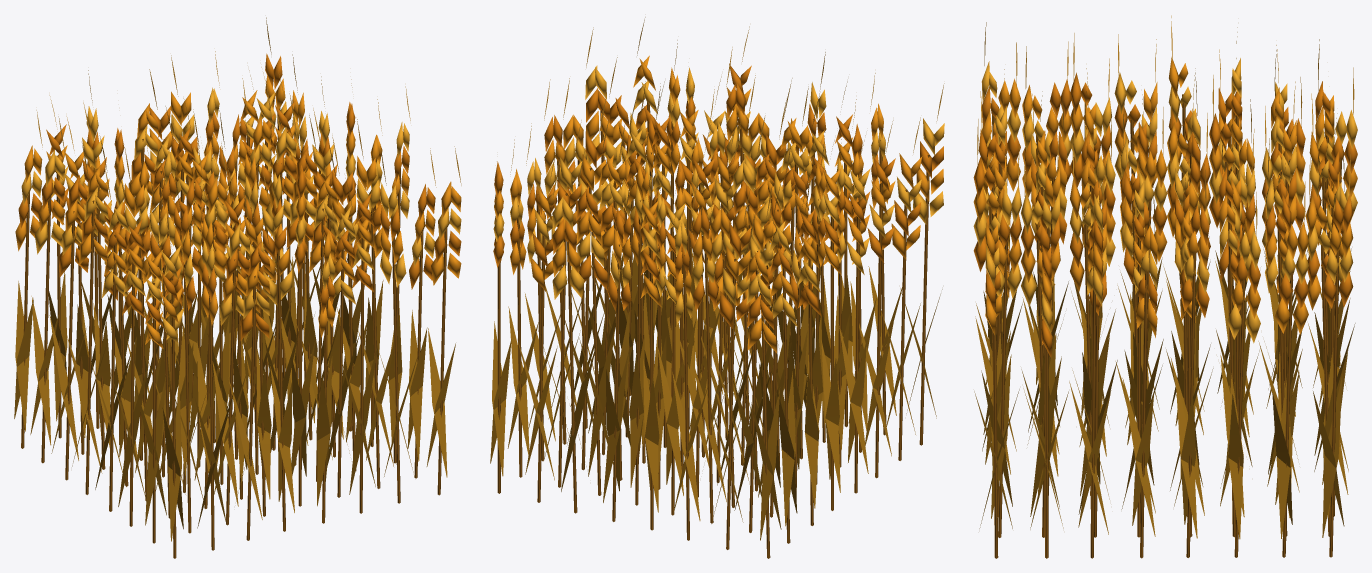
File: crop-cell-wheat-ready.obj
3 views of the same model, side by side, from view 1: azimuth 30°, elevation 25°; view 2: azimuth 150°, elevation 25°; view 3: azimuth 270°, elevation 25° (orthographic). The views are drawn at different scales.
Visible parts, largest first — view 1: crop-cell-wheat-ready; view 2: crop-cell-wheat-ready; view 3: crop-cell-wheat-ready.
Part boxes in pixels (bbox=[...]): crop-cell-wheat-ready: bbox=[14, 17, 461, 558]; crop-cell-wheat-ready: bbox=[490, 17, 944, 558]; crop-cell-wheat-ready: bbox=[973, 15, 1357, 558].
Bounding box in the file's own units: 0.5869 × 0.6959 × 0.5884.
Materials: 1 (1 with a texture image).
